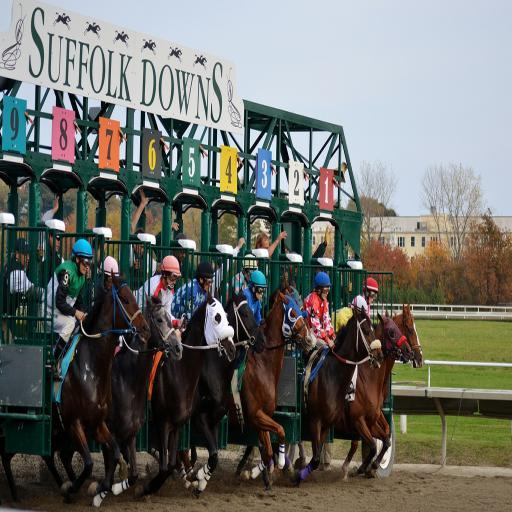Horse: (1, 279, 422, 511)
